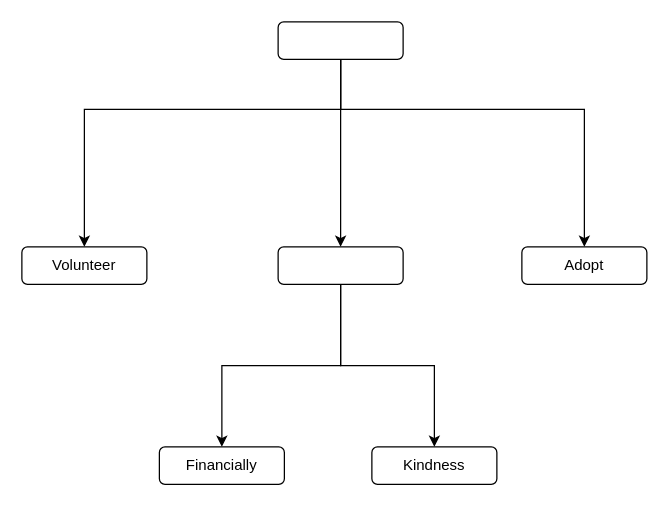
The diagram is 669 pixels wide and 506 high, and some of its shapes have lost their labels. Here are the shapes that lost their labels. From the top down, the centre of each, then its label:
At (x=340, y=40): "Start".
At (x=340, y=265): "Support".
